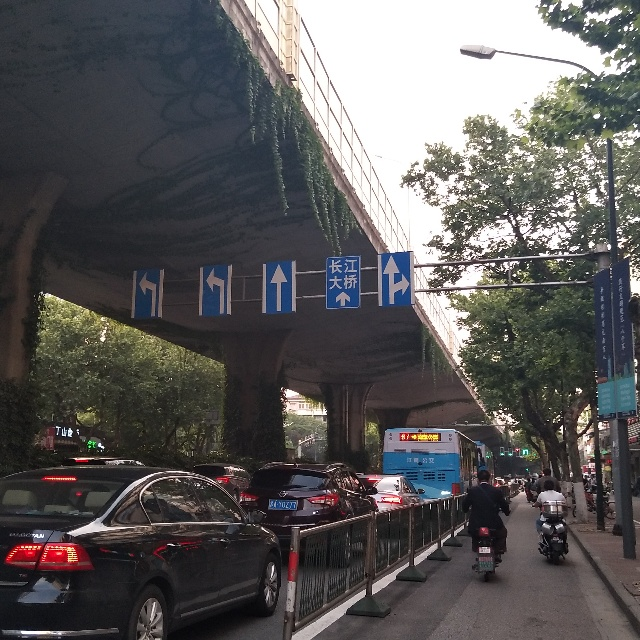left: (198, 264, 231, 322), (128, 266, 159, 319)
straight: (265, 263, 293, 313)
